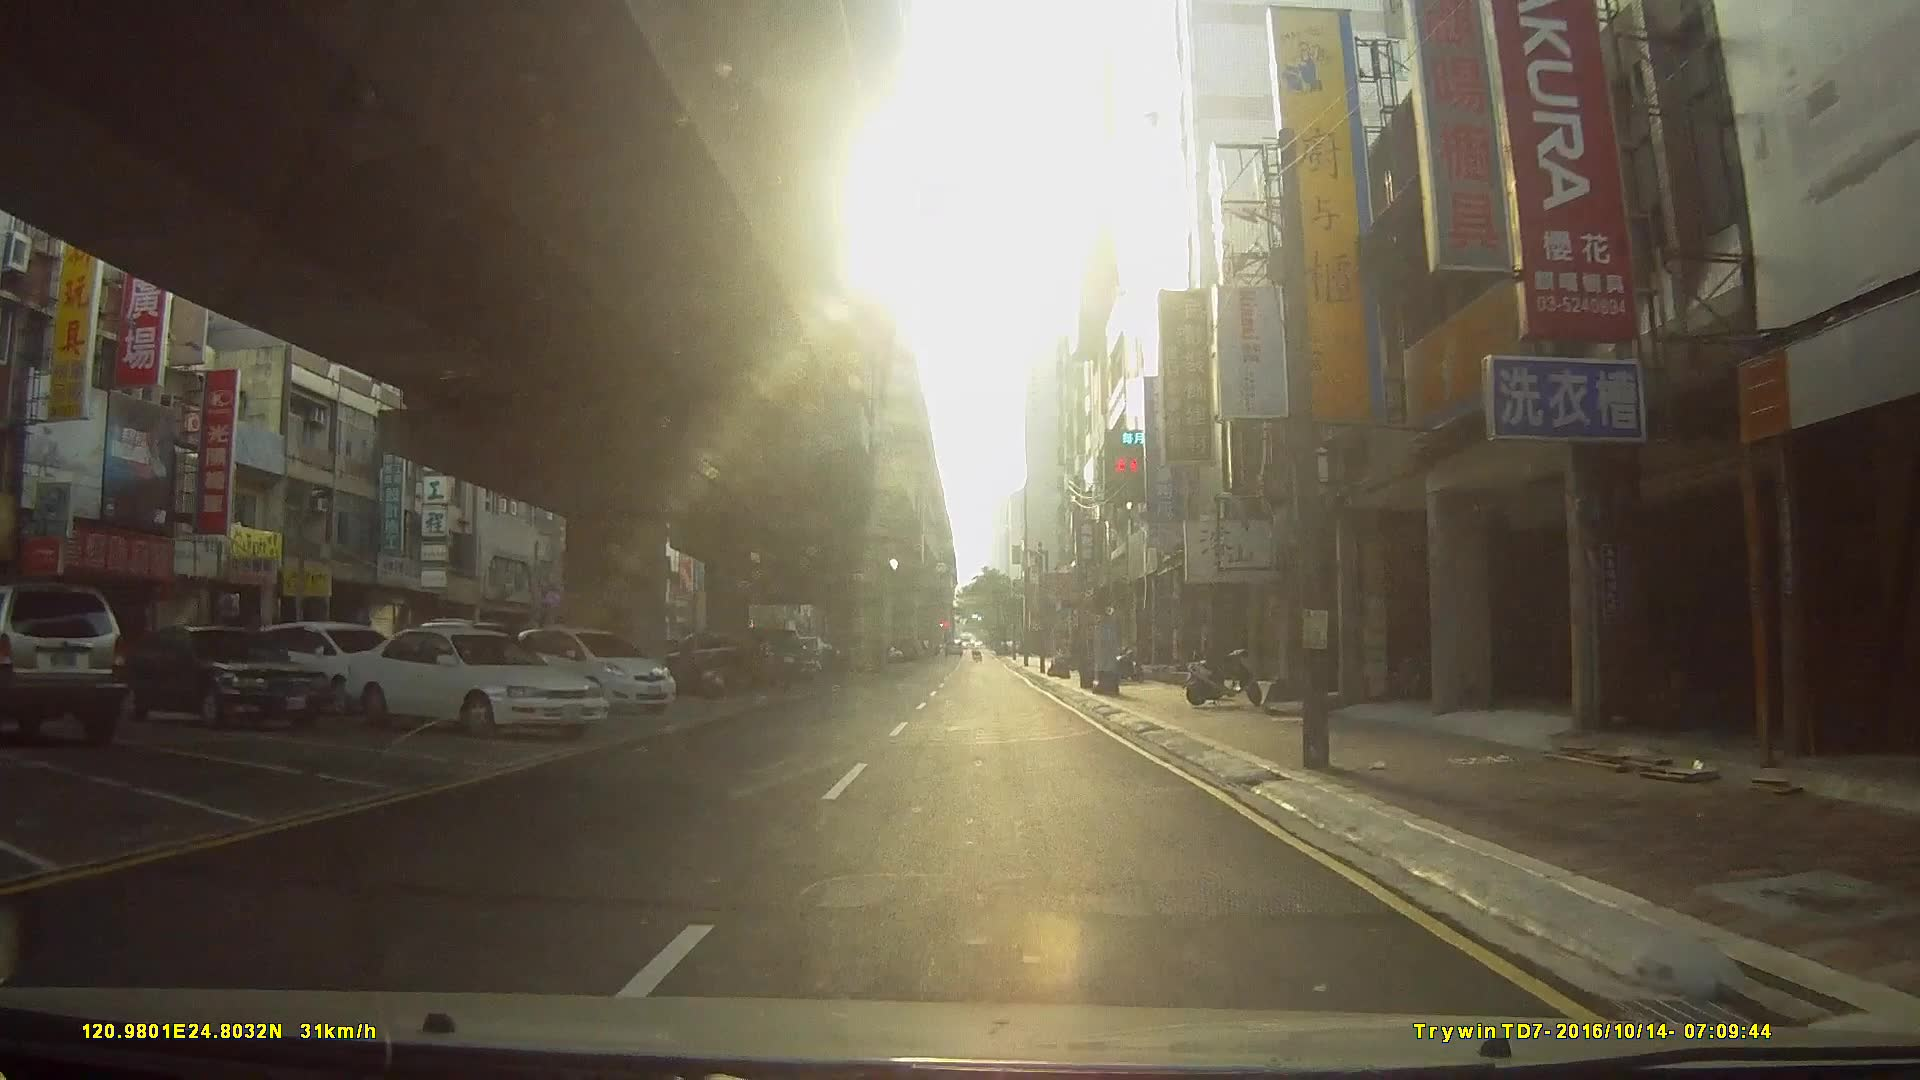vehicle: (340, 624, 608, 738), (107, 624, 334, 727), (0, 580, 124, 741), (506, 624, 674, 715), (251, 620, 402, 711)
